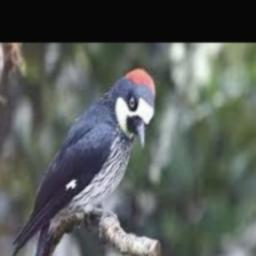Woodpecker: (11, 65, 154, 256)
